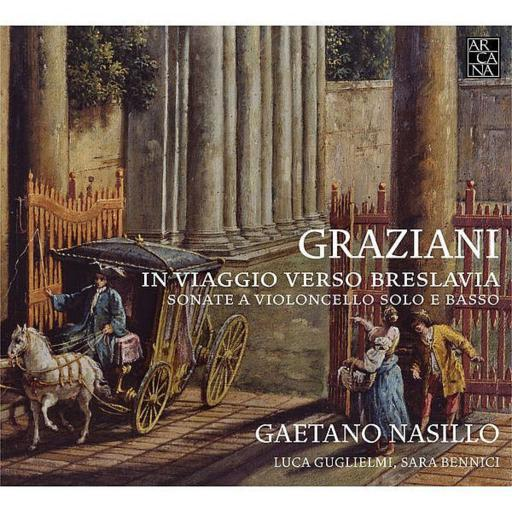horse: (6, 324, 110, 452), (0, 325, 75, 438)
